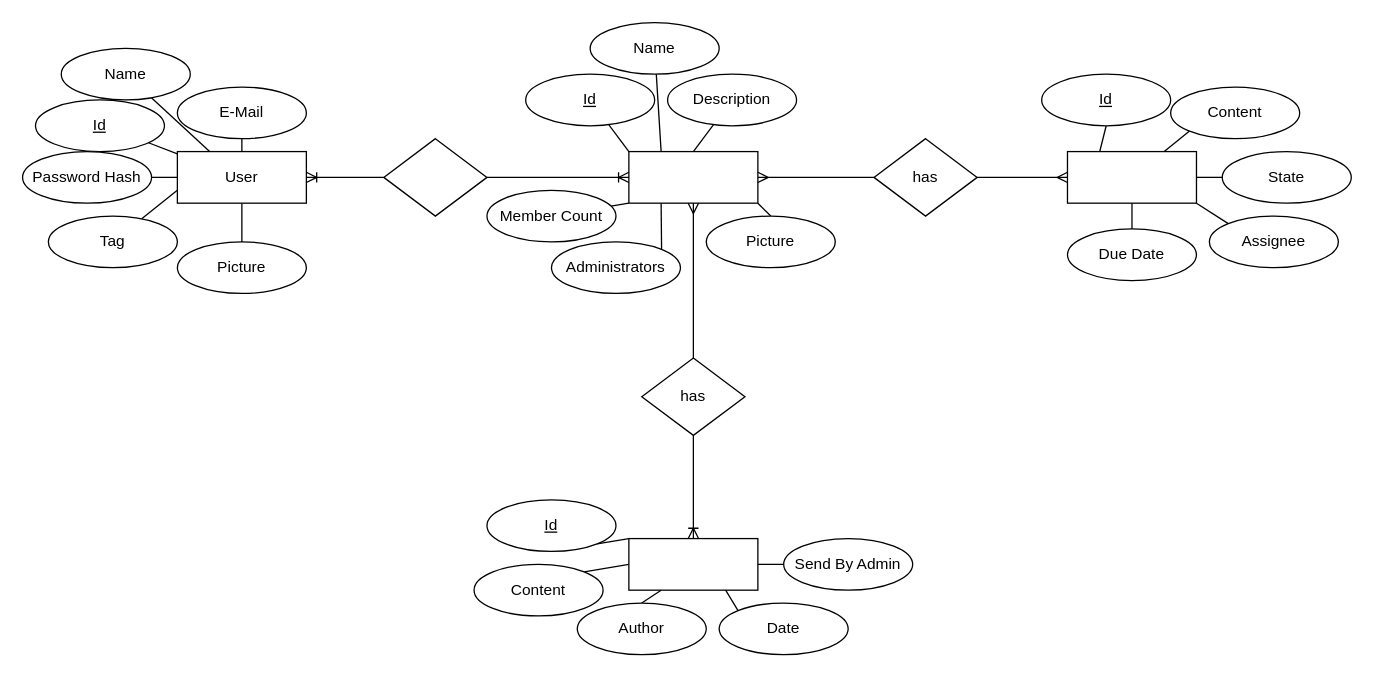
Image size: 1374x677. Some labels were removed from this diagram. Here are the shapes that lost their labels. From the top down, the centre of each, then its label:
At pixel 434 176: "is in".
At pixel 693 176: "Chat".
At pixel 1131 176: "Task".
At pixel 693 563: "Message".
